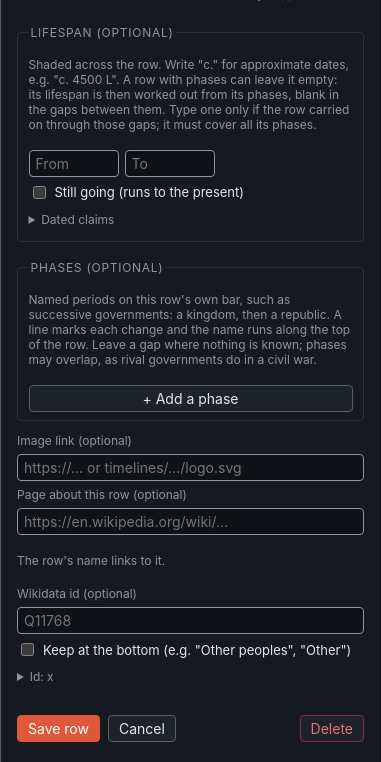
TrackForm phases › refuses a phase without a name or with an end before its start
The image size is (381, 762).
(page scrolled)
Click the button "+ Add a phase": (190, 398) [28,384,352,412]
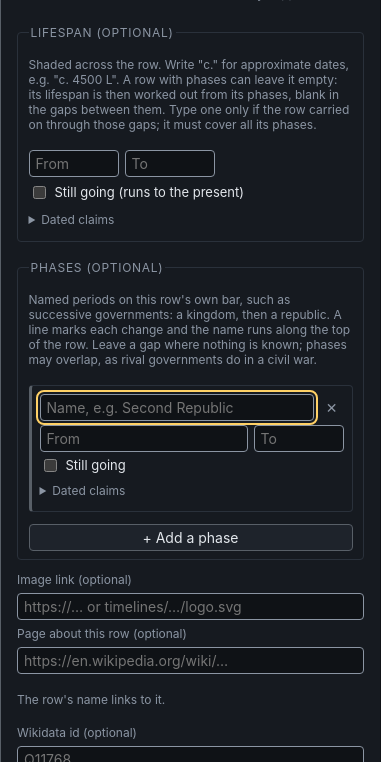
In the field named "Phase start": (144, 438) [40,424,248,452], type "10 L"
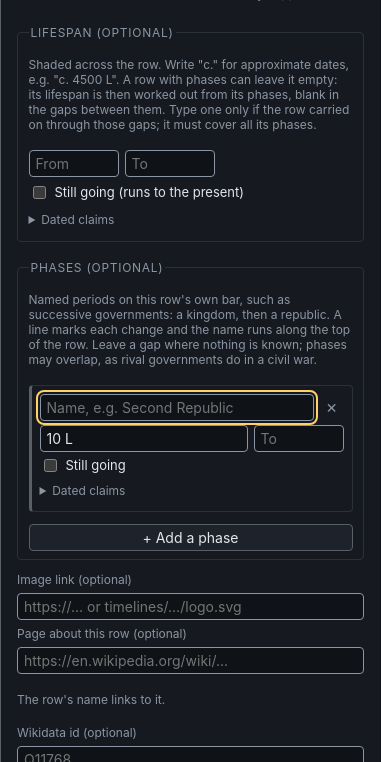
In the field named "Phase end": (298, 438) [254,424,344,452], type "5 L"
(page scrolled)
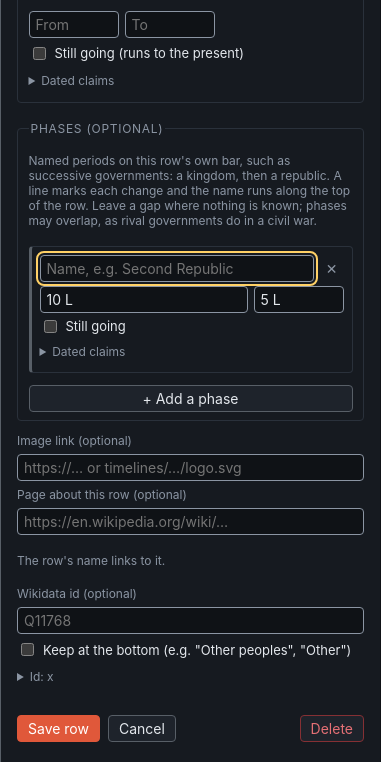
Click the button "Save row": (58, 729) [17,715,100,742]
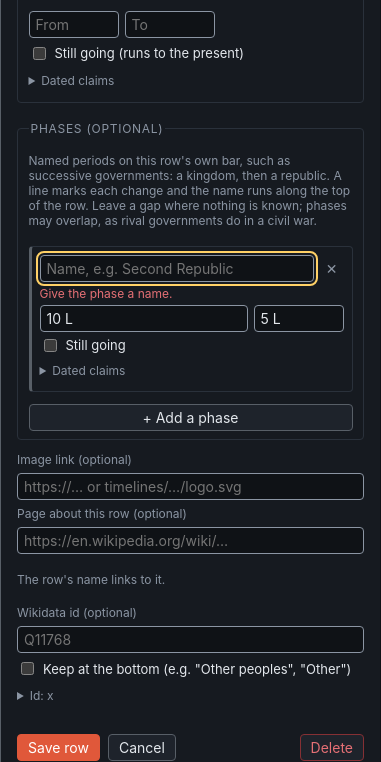
Expected: the text "Give the phase a name." is shown, [40,286,172,300]
In the field named "Phase name": (176, 268) [40,254,314,282], type "Backwards"
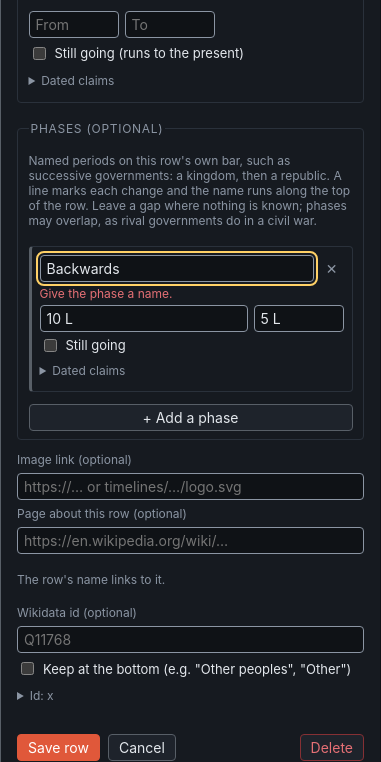
Click the button "Save row": (58, 748) [17,734,100,761]
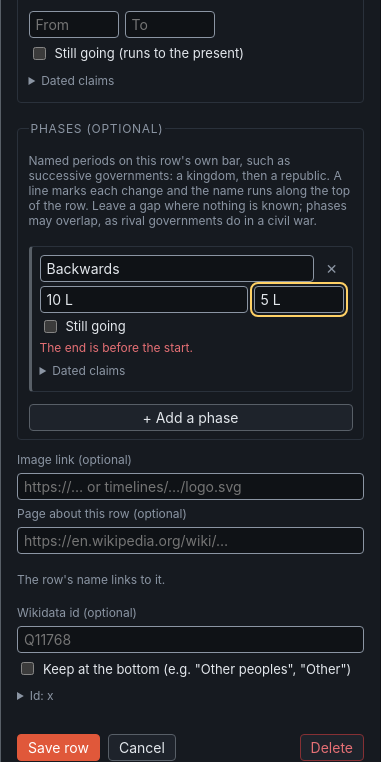
Expected: the text "The end is before the start." is shown, [40,340,193,354]
